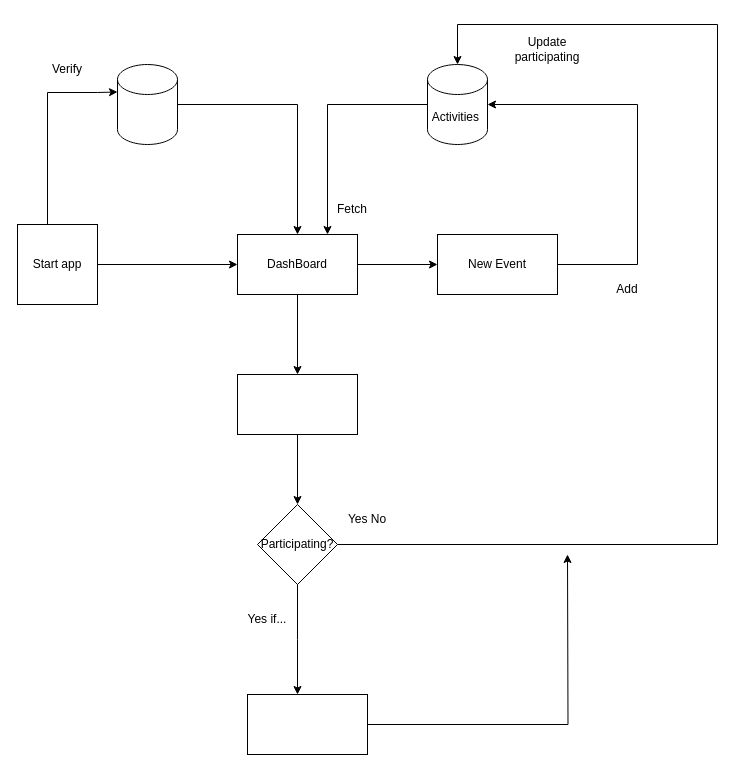
Image size: 743x772. Some labels were removed from this diagram. The centre of each missing label's shape, as x and y in pixels:
"Class codes" belongs at point (147, 104).
"Participating logic" belongs at point (307, 724).
"Select event" belongs at point (297, 404).
